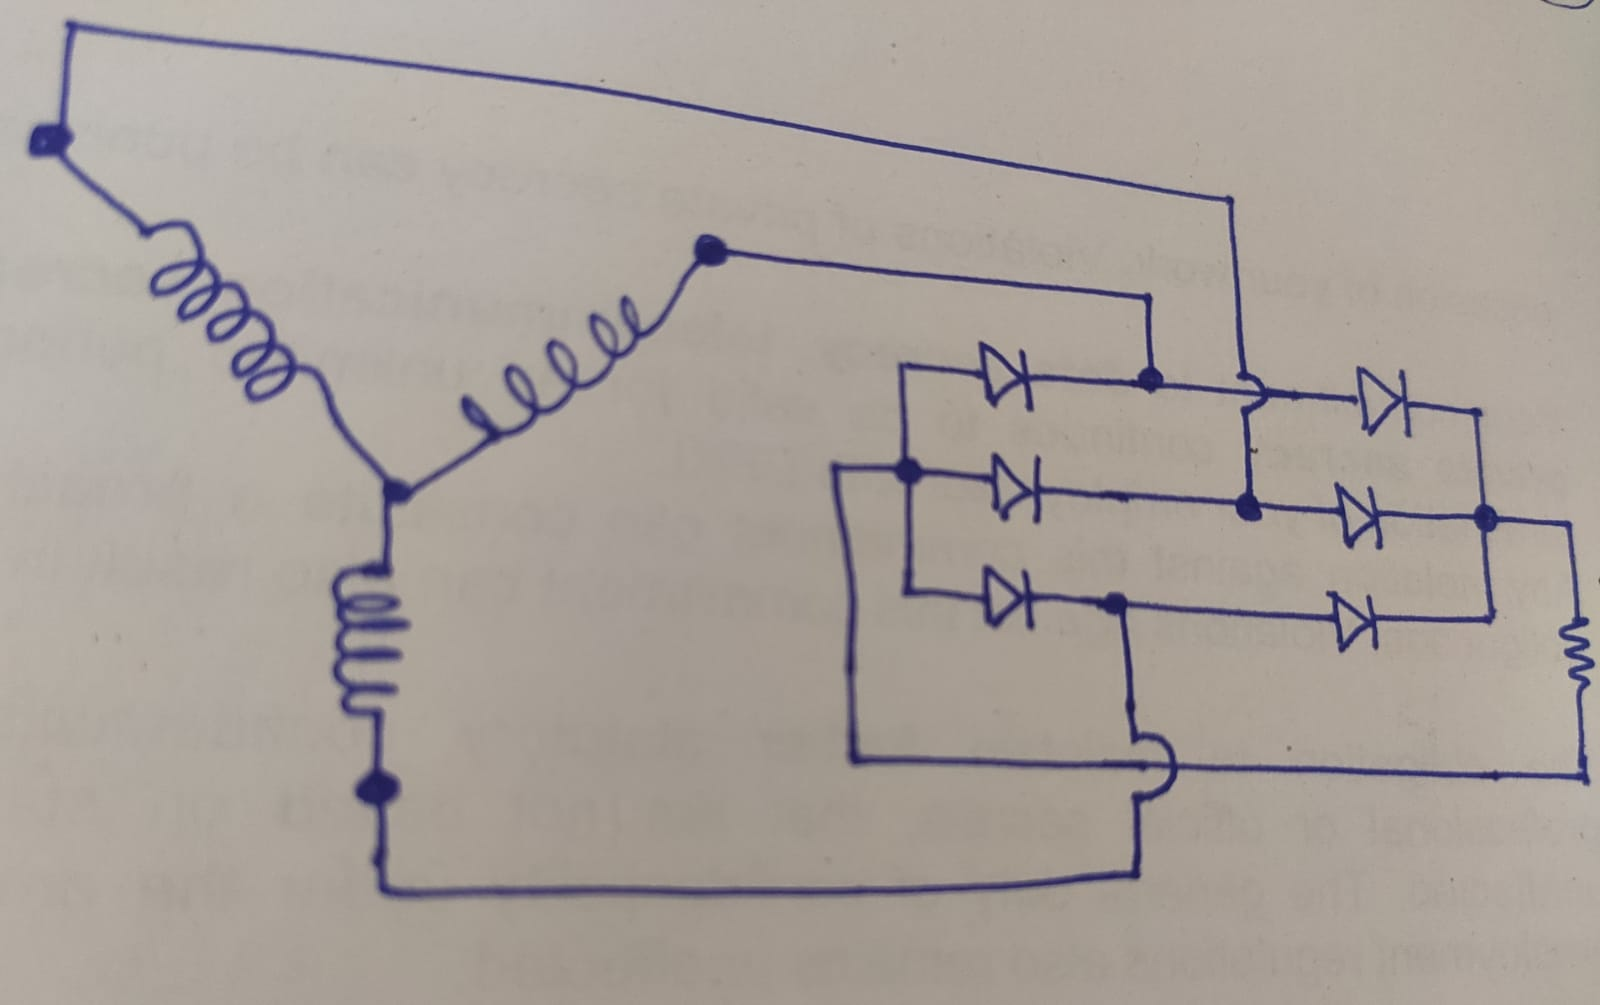crossover: (1123, 729, 1180, 805), (1233, 364, 1274, 415)
diode: (1351, 367, 1414, 435), (976, 563, 1037, 632), (986, 453, 1045, 524), (1327, 590, 1384, 654), (977, 344, 1033, 409), (1334, 484, 1385, 549)
inductor: (144, 218, 302, 404), (460, 294, 651, 441), (329, 553, 412, 718)
junction: (353, 757, 409, 815), (23, 111, 83, 163), (373, 468, 421, 518), (688, 228, 737, 276), (364, 865, 408, 910), (1465, 493, 1506, 537), (834, 738, 878, 775), (56, 9, 95, 47), (1230, 486, 1268, 524), (890, 572, 929, 610), (819, 452, 858, 489), (1094, 588, 1138, 621), (888, 454, 929, 489), (1564, 758, 1600, 795), (1129, 361, 1170, 393), (887, 349, 922, 386), (1117, 856, 1152, 893), (1471, 600, 1509, 634), (1211, 188, 1245, 223), (1131, 283, 1164, 316), (1550, 511, 1583, 542), (1461, 399, 1491, 431)
resistor: (1556, 609, 1599, 696)
